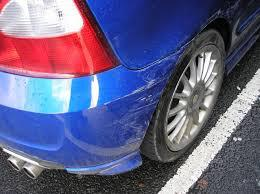rear-bumper-dent: (18, 68, 169, 165)
